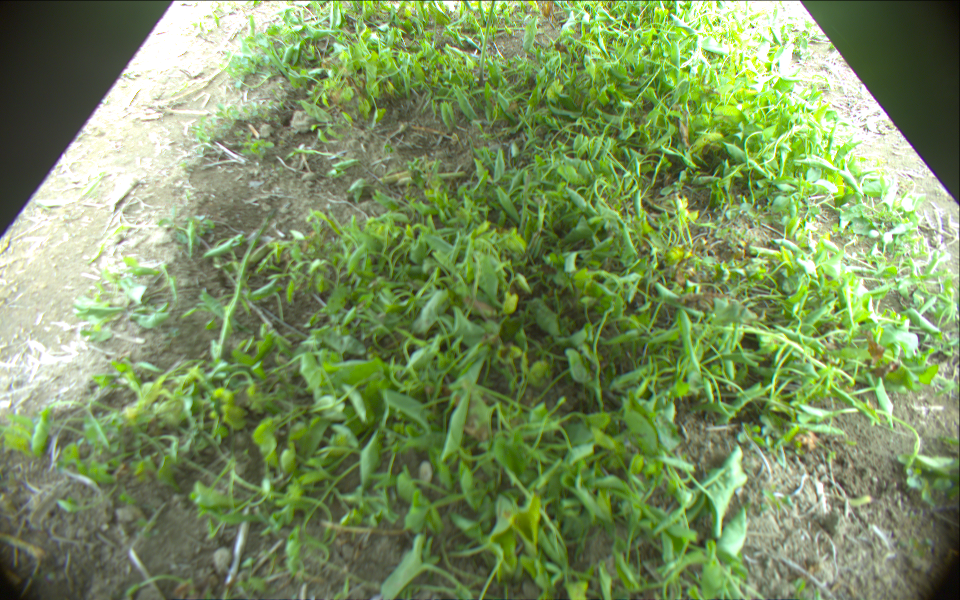aspa: (217, 211, 275, 358), (478, 1, 501, 85), (476, 1, 488, 24), (465, 1, 473, 17)
